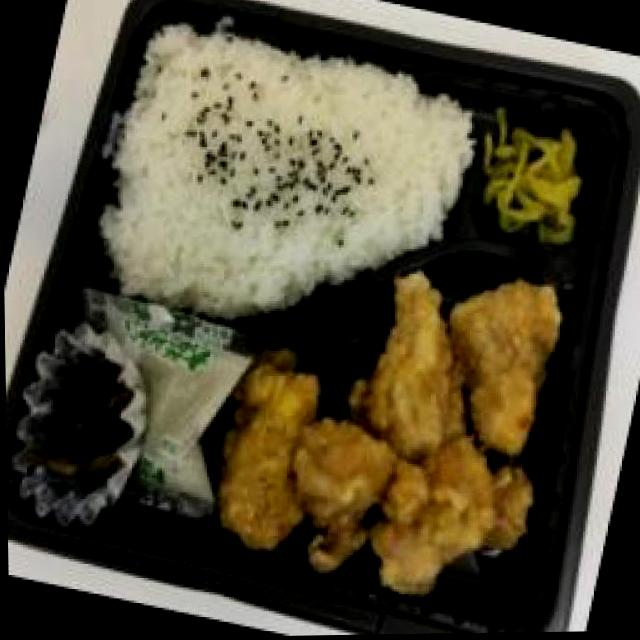rice: (113, 35, 430, 324)
